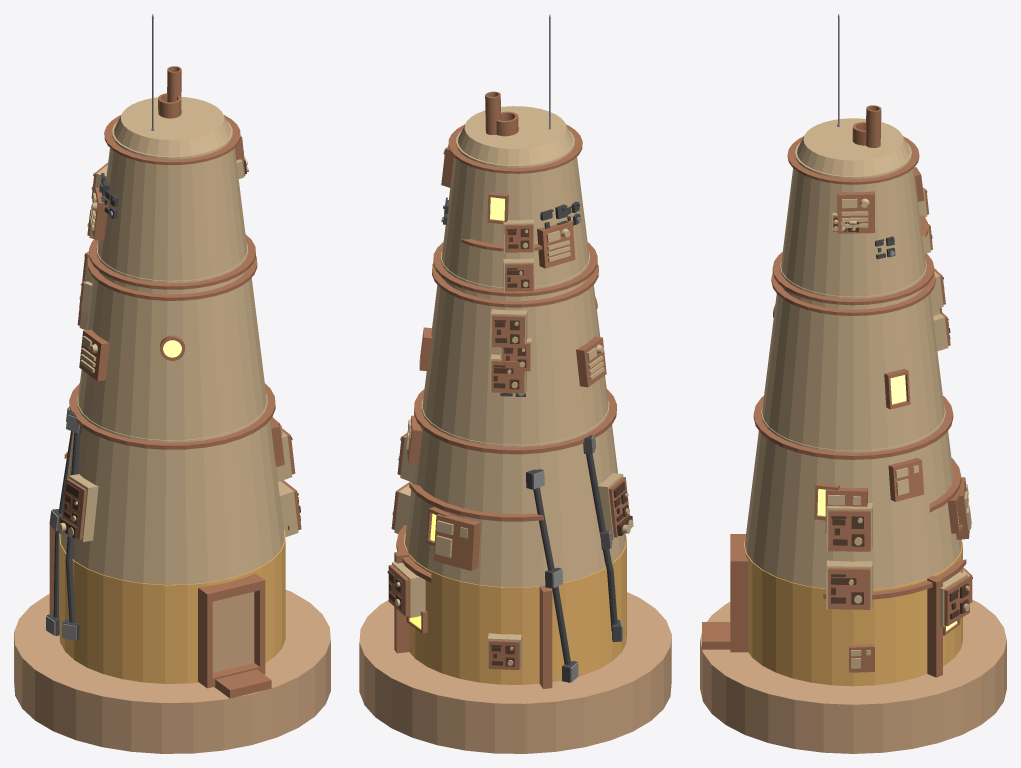
The model's file is nomad_building_11.fbx.
3 views of the same model, side by side, from view 1: azimuth 30°, elevation 25°; view 2: azimuth 150°, elevation 25°; view 3: azimuth 270°, elevation 25° (orthographic). The views are drawn at different scales.
Parts seen in each view (by area): view 1: B11_M_Drum1, B11_M_Foundation_foundation, B11_M_Drum2, B11_M_Drum3, B11_M_Drum0, B11_M_Crown_TowerBody_RoofCap, B11_M_Door_Door_Frame, B11_M_Door_Door_Leaf, B11_M_Ring10_TowerTrim_BandThin, B11_M_Ring20_TowerTrim_BandThin, B11_M_Ring21_TowerTrim_BandThin, B11_M_Ring30_TowerTrim_BandThin (+7 smaller); view 2: B11_M_Foundation_foundation, B11_M_Drum1, B11_M_Drum2, B11_M_Drum0, B11_M_Drum3, B11_M_Crown_TowerBody_RoofCap, B11_M_Ring10_TowerTrim_BandThin, B11_M_Gear16_PanelBox_Body, B11_M_Ring20_TowerTrim_BandThin, B11_M_Ring21_TowerTrim_BandThin, B11_M_Pilaster2_TowerTrim_Pilaster, B11_M_Ring30_TowerTrim_BandThin (+18 smaller); view 3: B11_M_Foundation_foundation, B11_M_Drum2, B11_M_Drum1, B11_M_Drum0, B11_M_Drum3, B11_M_Crown_TowerBody_RoofCap, B11_M_Door_Door_Frame, B11_M_Ring10_TowerTrim_BandThin, B11_M_Ring20_TowerTrim_BandThin, B11_M_Pilaster1_TowerTrim_Pilaster, B11_M_Ring21_TowerTrim_BandThin, B11_M_Panel5_MeterBox_Face005 (+14 smaller).
Part boxes in pixels (x1=…): B11_M_Drum1: x1=60, y1=393, x2=284, y2=584; B11_M_Foundation_foundation: x1=14, y1=590, x2=330, y2=753; B11_M_Drum2: x1=78, y1=243, x2=266, y2=440; B11_M_Drum3: x1=97, y1=121, x2=247, y2=280; B11_M_Drum0: x1=59, y1=530, x2=285, y2=683; B11_M_Crown_TowerBody_RoofCap: x1=114, y1=96, x2=230, y2=156; B11_M_Door_Door_Frame: x1=198, y1=573, x2=265, y2=688; B11_M_Door_Door_Leaf: x1=212, y1=592, x2=254, y2=672; B11_M_Ring10_TowerTrim_BandThin: x1=69, y1=383, x2=275, y2=449; B11_M_Ring20_TowerTrim_BandThin: x1=89, y1=234, x2=255, y2=289; B11_M_Ring21_TowerTrim_BandThin: x1=87, y1=256, x2=257, y2=300; B11_M_Ring30_TowerTrim_BandThin: x1=104, y1=115, x2=240, y2=164; B11_M_Foundation_foundation: x1=359, y1=592, x2=671, y2=753; B11_M_Drum1: x1=405, y1=399, x2=625, y2=587; B11_M_Drum2: x1=422, y1=251, x2=608, y2=444; B11_M_Drum0: x1=404, y1=533, x2=626, y2=684; B11_M_Drum3: x1=441, y1=130, x2=589, y2=287; B11_M_Crown_TowerBody_RoofCap: x1=458, y1=106, x2=572, y2=165; B11_M_Ring10_TowerTrim_BandThin: x1=414, y1=389, x2=616, y2=454; B11_M_Gear16_PanelBox_Body: x1=433, y1=514, x2=480, y2=570; B11_M_Ring20_TowerTrim_BandThin: x1=433, y1=242, x2=597, y2=296; B11_M_Ring21_TowerTrim_BandThin: x1=432, y1=263, x2=598, y2=307; B11_M_Pilaster2_TowerTrim_Pilaster: x1=539, y1=586, x2=552, y2=688; B11_M_Ring30_TowerTrim_BandThin: x1=448, y1=124, x2=582, y2=173; B11_M_Foundation_foundation: x1=700, y1=599, x2=1006, y2=753; B11_M_Drum2: x1=762, y1=260, x2=944, y2=450; B11_M_Drum1: x1=745, y1=405, x2=961, y2=589; B11_M_Drum0: x1=744, y1=538, x2=962, y2=686; B11_M_Drum3: x1=781, y1=142, x2=925, y2=296; B11_M_Crown_TowerBody_RoofCap: x1=797, y1=118, x2=909, y2=176; B11_M_Door_Door_Frame: x1=730, y1=534, x2=748, y2=652; B11_M_Ring10_TowerTrim_BandThin: x1=753, y1=396, x2=953, y2=459; B11_M_Ring20_TowerTrim_BandThin: x1=772, y1=252, x2=934, y2=305; B11_M_Pilaster1_TowerTrim_Pilaster: x1=927, y1=575, x2=942, y2=677; B11_M_Ring21_TowerTrim_BandThin: x1=771, y1=272, x2=935, y2=315; B11_M_Panel5_MeterBox_Face005: x1=828, y1=568, x2=870, y2=609.
Bounding box in the file's own units: 294 × 701 × 294.
